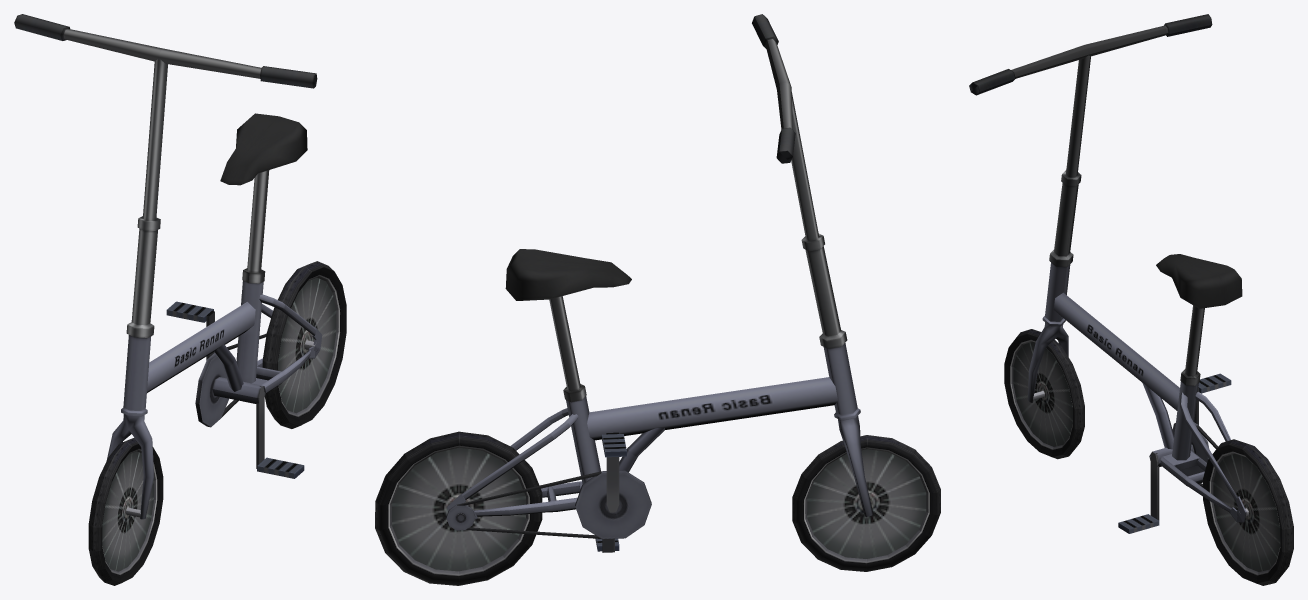
Rendered from JianKongJieDao_01_zixingche_01.FBX.
3 views of the same model, side by side, from view 1: azimuth 30°, elevation 25°; view 2: azimuth 150°, elevation 25°; view 3: azimuth 270°, elevation 25° (orthographic). The views are drawn at different scales.
Parts seen in each view (by area): view 1: JianKongJieDao_01_zixingche_01; view 2: JianKongJieDao_01_zixingche_01; view 3: JianKongJieDao_01_zixingche_01.
Boxes of the visible parts, box(x1,y1,x2,y2) form: JianKongJieDao_01_zixingche_01: box(14, 14, 346, 585); JianKongJieDao_01_zixingche_01: box(375, 14, 940, 585); JianKongJieDao_01_zixingche_01: box(969, 14, 1293, 585).
Size of the model in its own units: 387 by 448 by 304.
